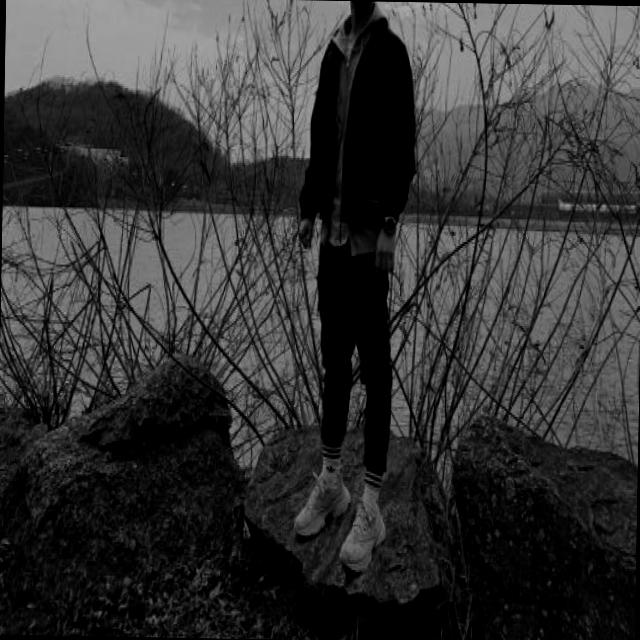jacket: (301, 10, 421, 232)
trainingpants: (314, 231, 394, 487)
